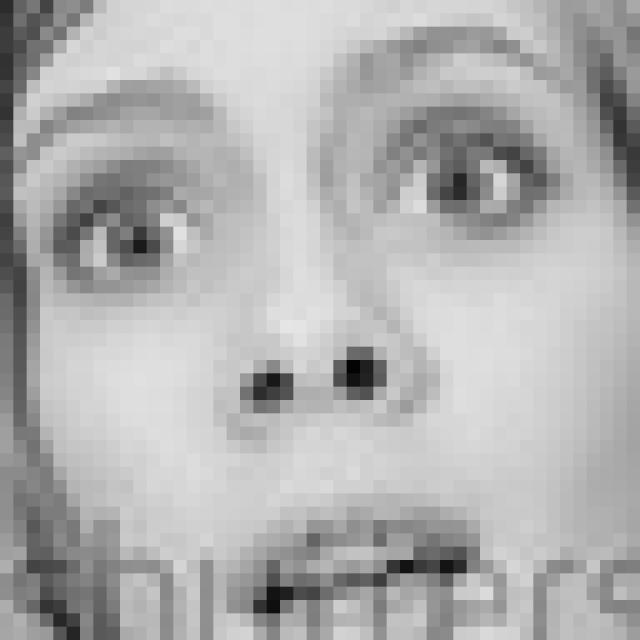fear: (14, 25, 569, 640)
